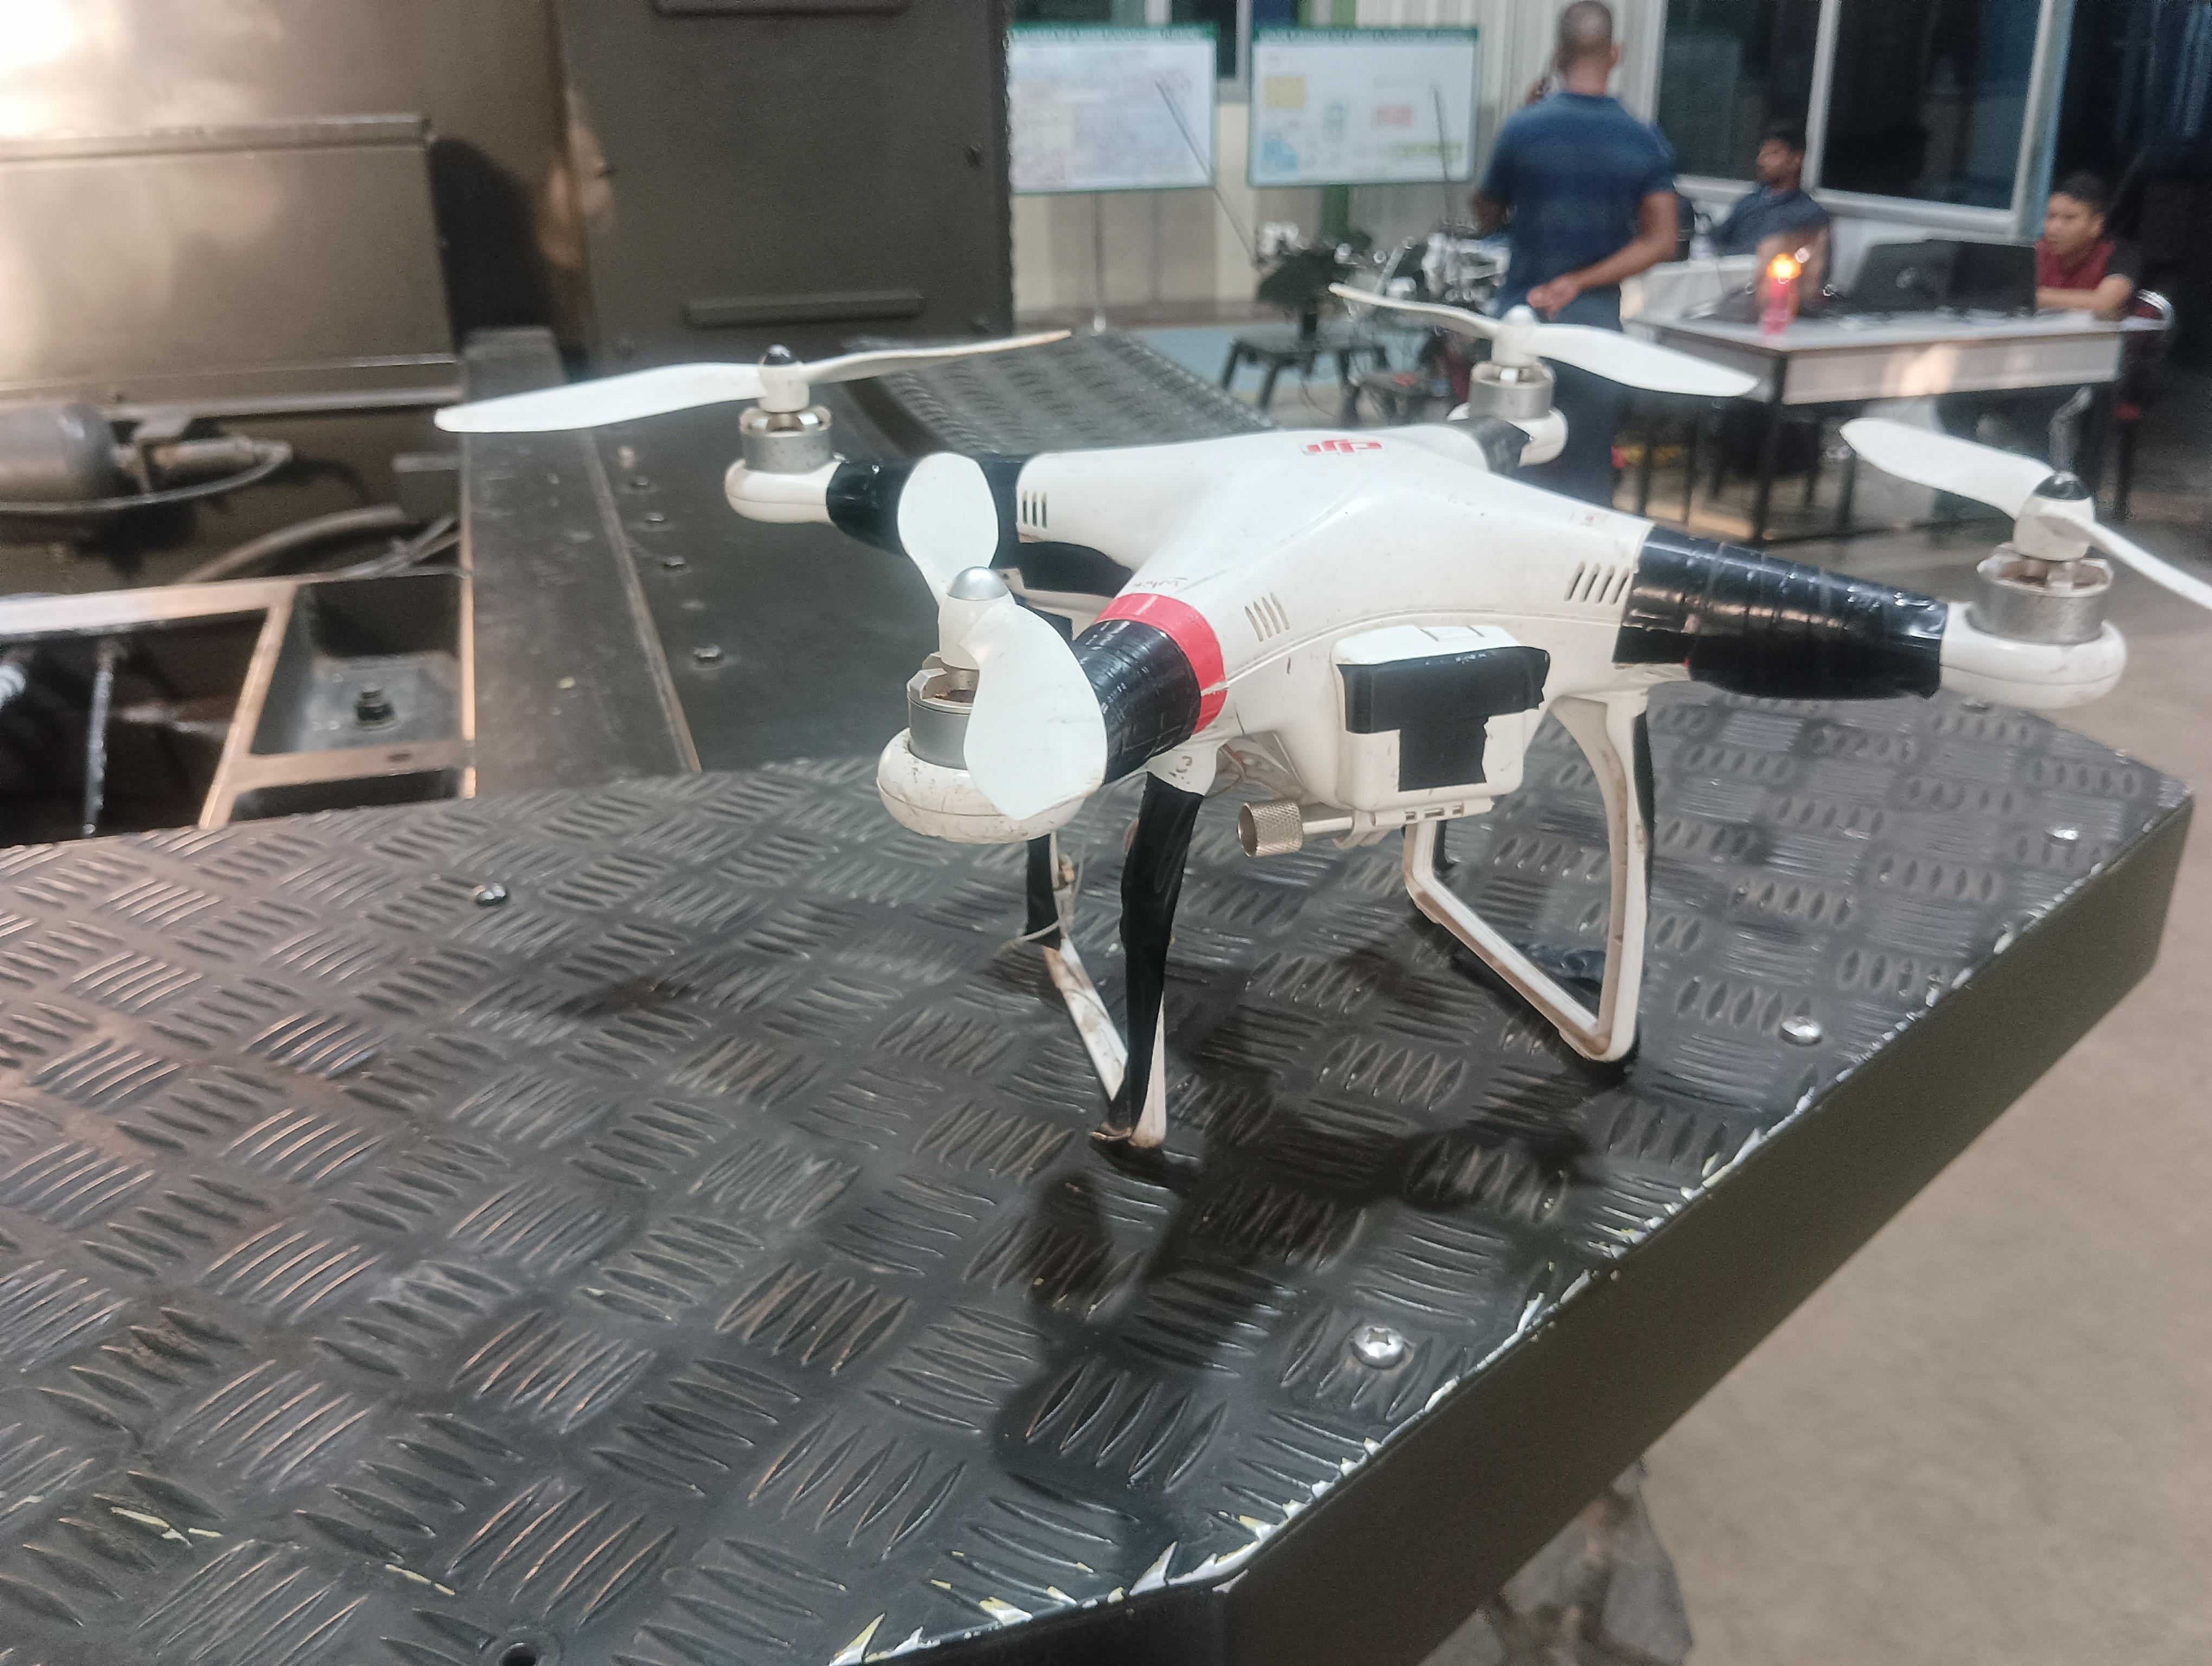drone: (353, 250, 2212, 1199)
